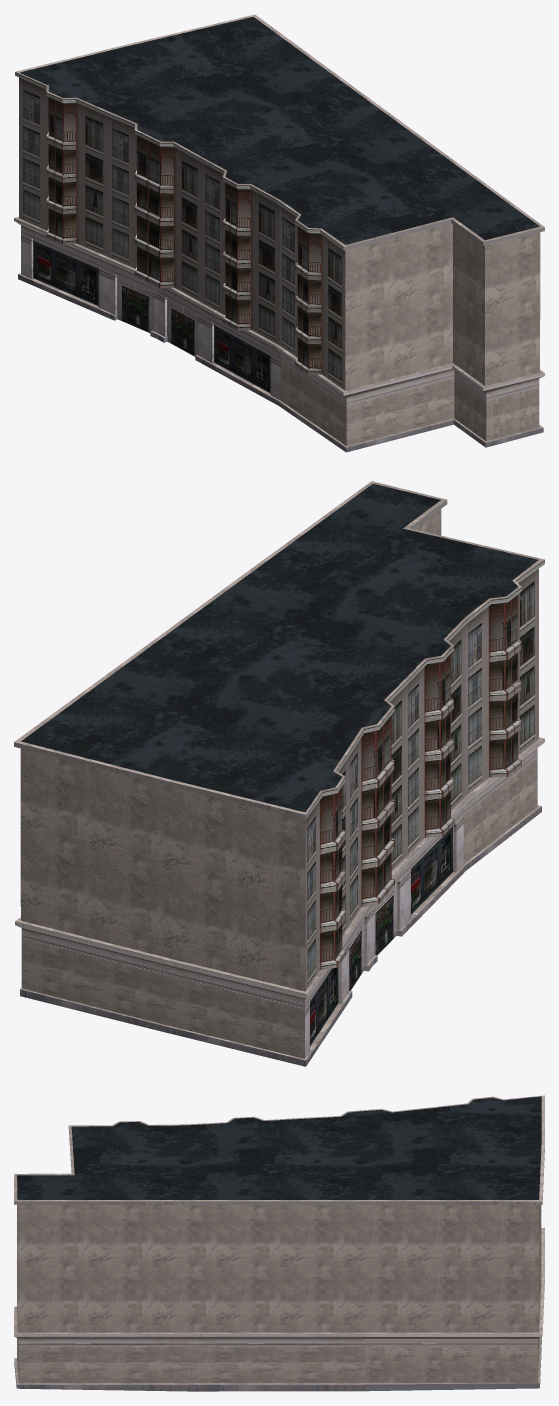
Rendered from mission_02_sfs.obj.
3 renders of one model, top to bottom at view 1: azimuth 30°, elevation 25°; view 2: azimuth 150°, elevation 25°; view 3: azimuth 270°, elevation 25°, orthographic. The views are drawn at different scales.
Visible parts, largest first — view 1: mission_02_SFS; view 2: mission_02_SFS; view 3: mission_02_SFS.
Part boxes in pixels (x1,y1,x2,y2): mission_02_SFS: (14, 14, 544, 452); mission_02_SFS: (14, 481, 544, 1066); mission_02_SFS: (14, 1095, 544, 1391).
Size of the model in its own units: 28.85 by 24.04 by 60.77.
Materials: 5 (5 with a texture image).
